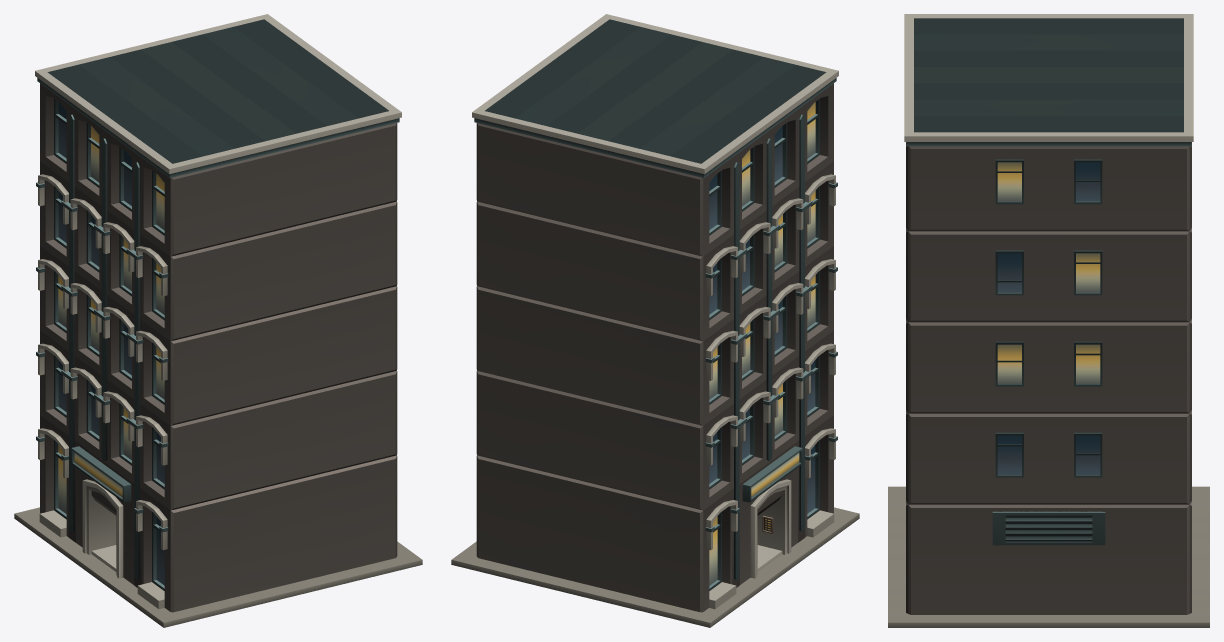
Rendered from Building_19A.fbx.
3 views of the same model, side by side, from view 1: azimuth 30°, elevation 25°; view 2: azimuth 150°, elevation 25°; view 3: azimuth 270°, elevation 25° (orthographic). The views are drawn at different scales.
Parts seen in each view (by area): view 1: Building_19A, Window_Lights_19A; view 2: Building_19A, Window_Lights_19A; view 3: Building_19A, Window_Lights_19A.
Boxes of the visible parts, x1,y1,x2,y2 form: Building_19A: (14,14,422,627); Window_Lights_19A: (58,126,164,513); Building_19A: (451,14,859,627); Window_Lights_19A: (709,102,815,585); Building_19A: (888,14,1209,627); Window_Lights_19A: (997,162,1100,383).
Size of the model in its own units: 1600 by 2660 by 1600.
